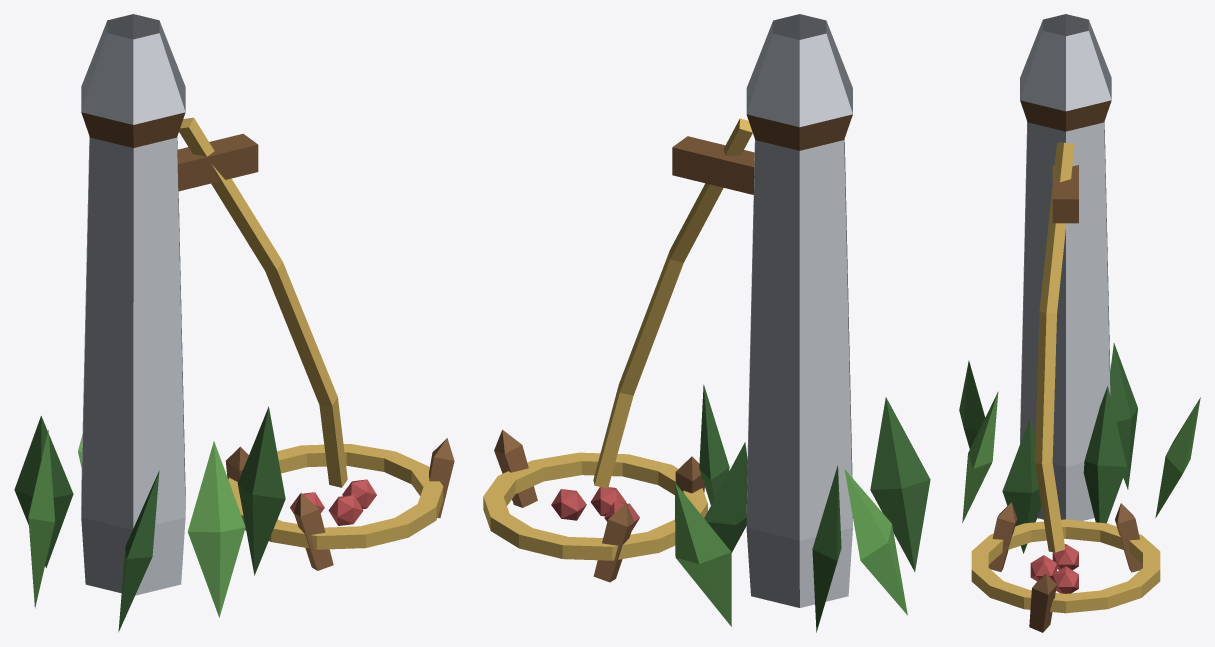
The model's file is SnareTrap.obj.
3 views of the same model, side by side, from view 1: azimuth 30°, elevation 25°; view 2: azimuth 150°, elevation 25°; view 3: azimuth 270°, elevation 25° (orthographic). The views are drawn at different scales.
Size of the model in its own units: 0.947 by 1.22 by 0.548.
